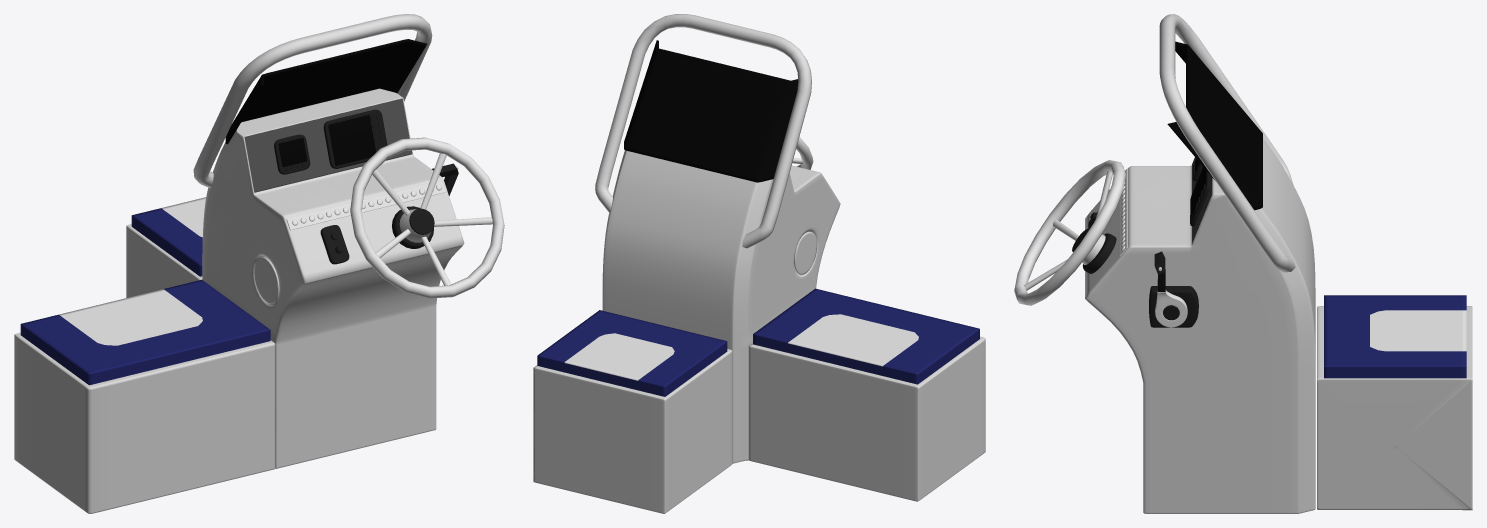
Rendered from centerConsoleClassic.glb.
3 views of the same model, side by side, from view 1: azimuth 30°, elevation 25°; view 2: azimuth 150°, elevation 25°; view 3: azimuth 270°, elevation 25° (orthographic). The views are drawn at different scales.
Visible parts, largest first — view 1: Classic Centre console, sideSeat, 330 centre console trad side seat.003, 330 centre console trad side seat.004, frontSeat, 330 centre console trad side seat.005, 330 centre console trad side seat.002; view 2: Classic Centre console, sideSeat, frontSeat, 330 centre console trad side seat.003, 330 centre console trad side seat.005, 330 centre console trad side seat.004, 330 centre console trad side seat.002; view 3: Classic Centre console, frontSeat, 330 centre console trad side seat.005, 330 centre console trad side seat.002.
Part boxes in pixels (x1=…): Classic Centre console: x1=193, y1=14, x2=504, y2=468; sideSeat: x1=14, y1=332, x2=275, y2=513; 330 centre console trad side seat.003: x1=20, y1=279, x2=270, y2=385; 330 centre console trad side seat.004: x1=59, y1=289, x2=202, y2=345; frontSeat: x1=126, y1=224, x2=202, y2=297; 330 centre console trad side seat.005: x1=131, y1=208, x2=202, y2=276; 330 centre console trad side seat.002: x1=161, y1=197, x2=206, y2=237; Classic Centre console: x1=595, y1=14, x2=840, y2=463; sideSeat: x1=748, y1=336, x2=985, y2=501; frontSeat: x1=533, y1=349, x2=732, y2=513; 330 centre console trad side seat.003: x1=753, y1=288, x2=979, y2=384; 330 centre console trad side seat.005: x1=537, y1=310, x2=727, y2=396; 330 centre console trad side seat.004: x1=788, y1=314, x2=918, y2=366; 330 centre console trad side seat.002: x1=564, y1=333, x2=674, y2=380; Classic Centre console: x1=1014, y1=14, x2=1315, y2=513; frontSeat: x1=1317, y1=306, x2=1472, y2=510; 330 centre console trad side seat.005: x1=1324, y1=295, x2=1466, y2=378; 330 centre console trad side seat.002: x1=1370, y1=310, x2=1466, y2=351.
Bounding box in the file's own units: 2.55 × 2.67 × 2.59.
7 materials, 1 textured.
